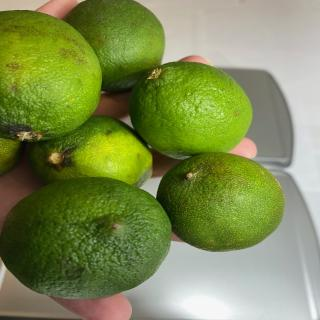Lemon: (0, 176, 172, 300), (0, 10, 103, 142), (156, 152, 285, 252), (128, 61, 253, 160), (61, 0, 166, 92), (28, 114, 153, 188), (0, 137, 23, 175)
